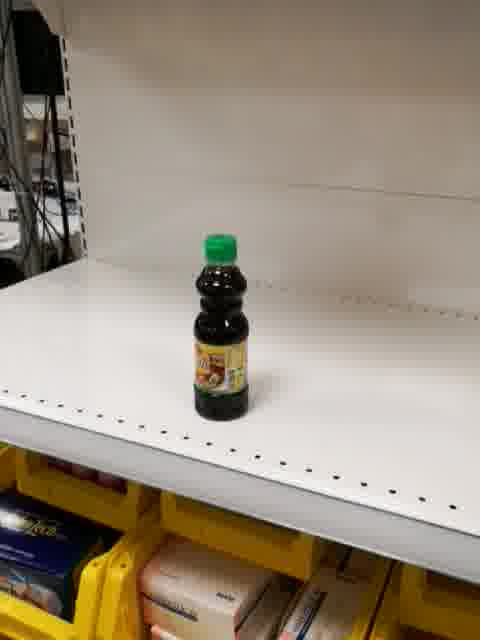cookingoil: (192, 232, 251, 423)
